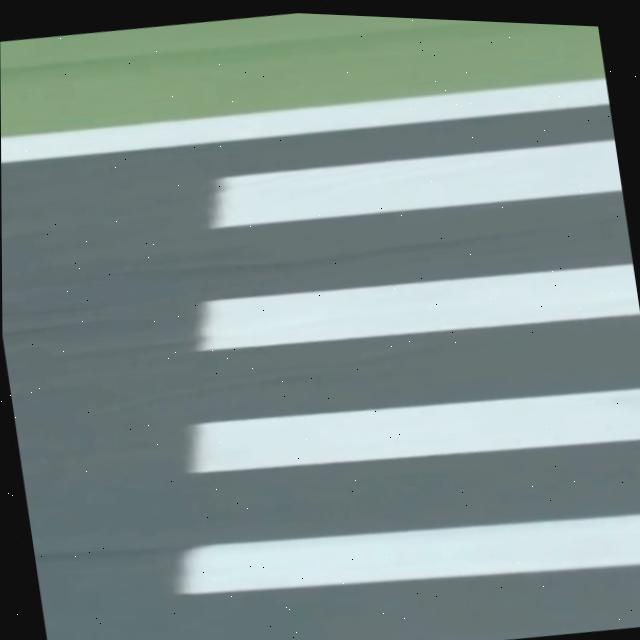right: (1, 79, 610, 164)
